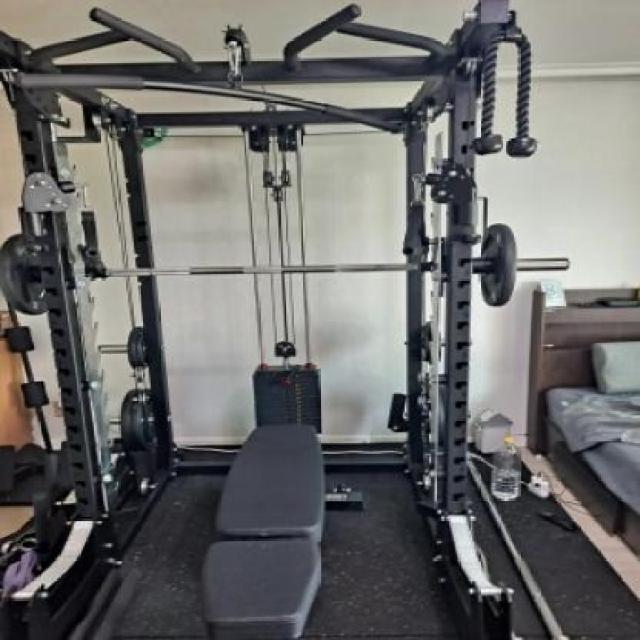smith machine: (0, 0, 518, 640)
